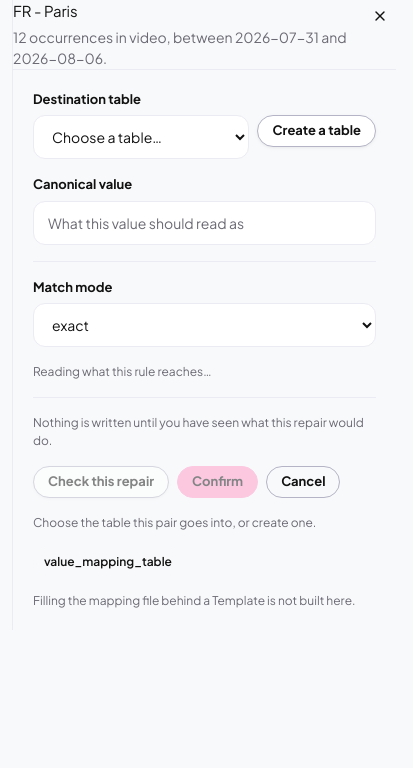
Scenario: S3 — the repair drawer › NE PROMET RIEN : il relit, et dit que la liste porte encore la valeur
Expected: the element with test id "repair-reach" is shown, [33,364,212,379]
Select "Country vocabulary" in the dropdown with test id "repair-destination". click: [141, 137]
box: [33,115,250,159]
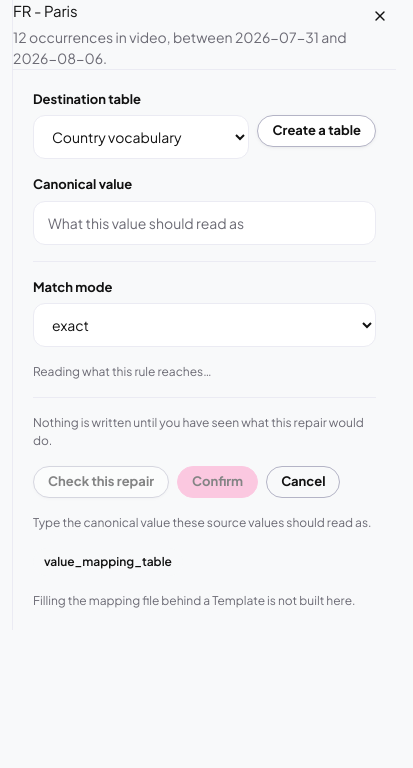
Type "France" into the field with test id "repair-canonical". click: [204, 222]
box: [33,200,376,244]
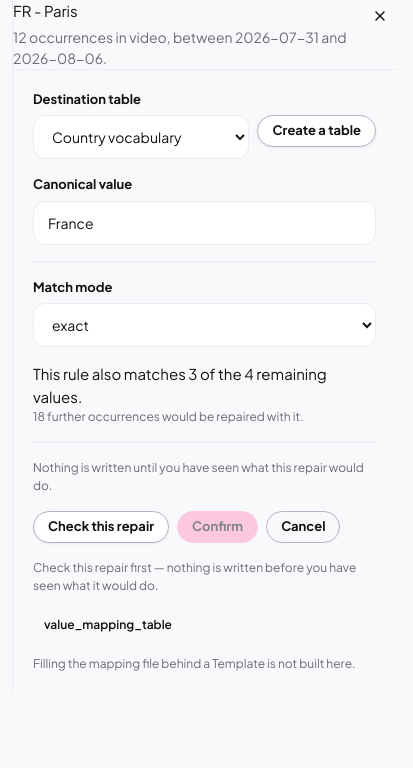
Click the button with test id "repair-check". click: [101, 527]
box: [33,511,169,543]
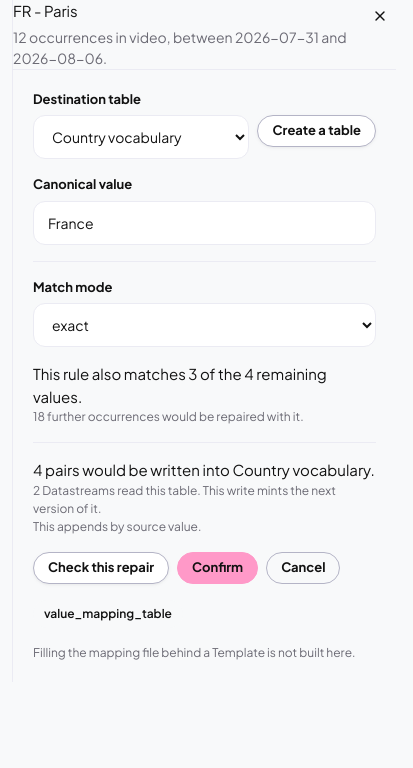
Expected: the element with test id "repair-impact" is shown, [33,459,376,536]
Click the button with test id "repair-confirm". click: [218, 568]
box: [177,552,258,584]
(page scrolled)
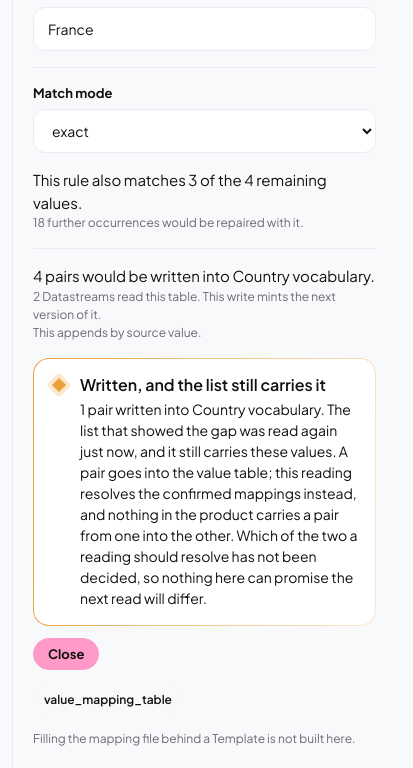
Expected: the element with test id "repair-done" shows "Written, and the list still carries it", [80,374,326,394]
Expected: the element with test id "repair-done" shows "it still carries these values", [80,400,358,607]
Expected: the element with test id "repair-done" shows "nothing in the product carries a pair from one into the other", [80,400,358,607]
